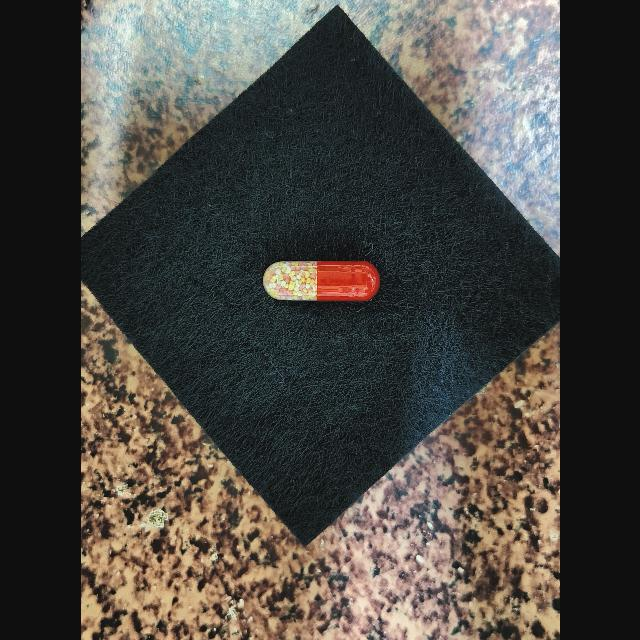Intact Capsule: (262, 262, 380, 301)
